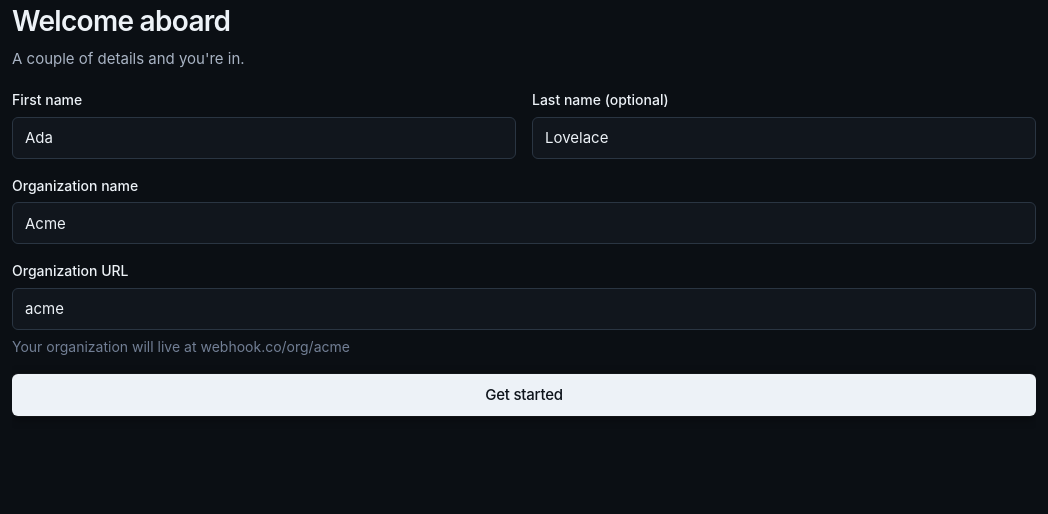
Scenario: OnboardingForm › surfaces a server field error without navigating
What coordinates should you click on to do the following:
click the button "Get started"
I would click on:
 (524, 395)
Its box is [12,374,1036,416].
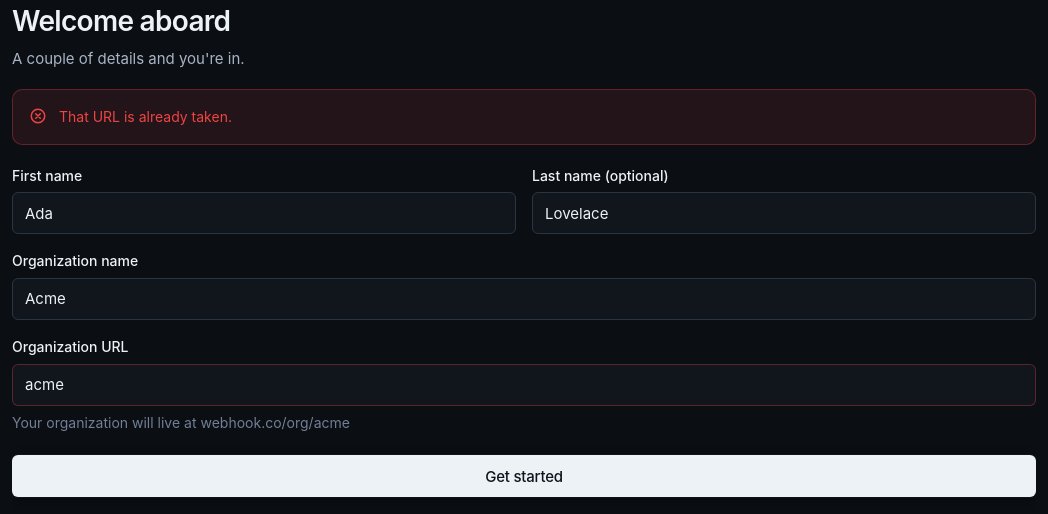
Now the text "That URL is already taken." is shown, box [59,108,232,125]
